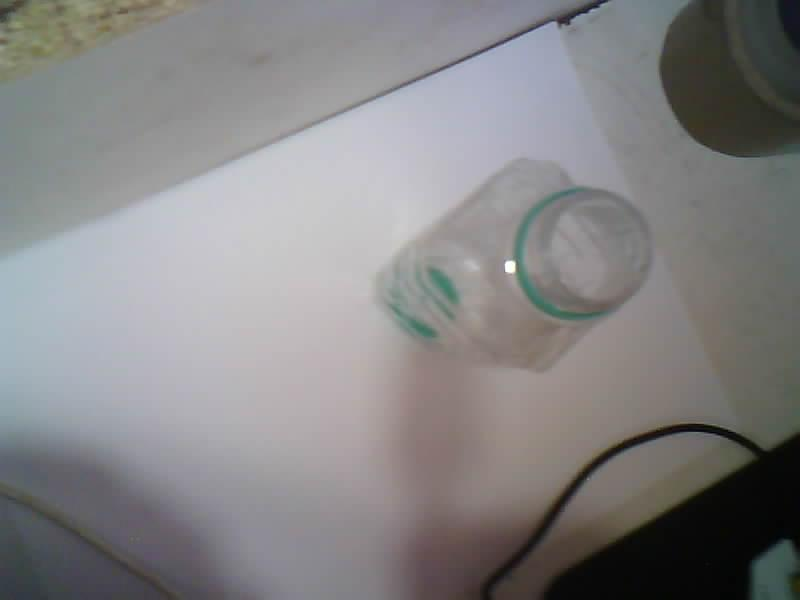non-biodegradable: (377, 159, 652, 371)
